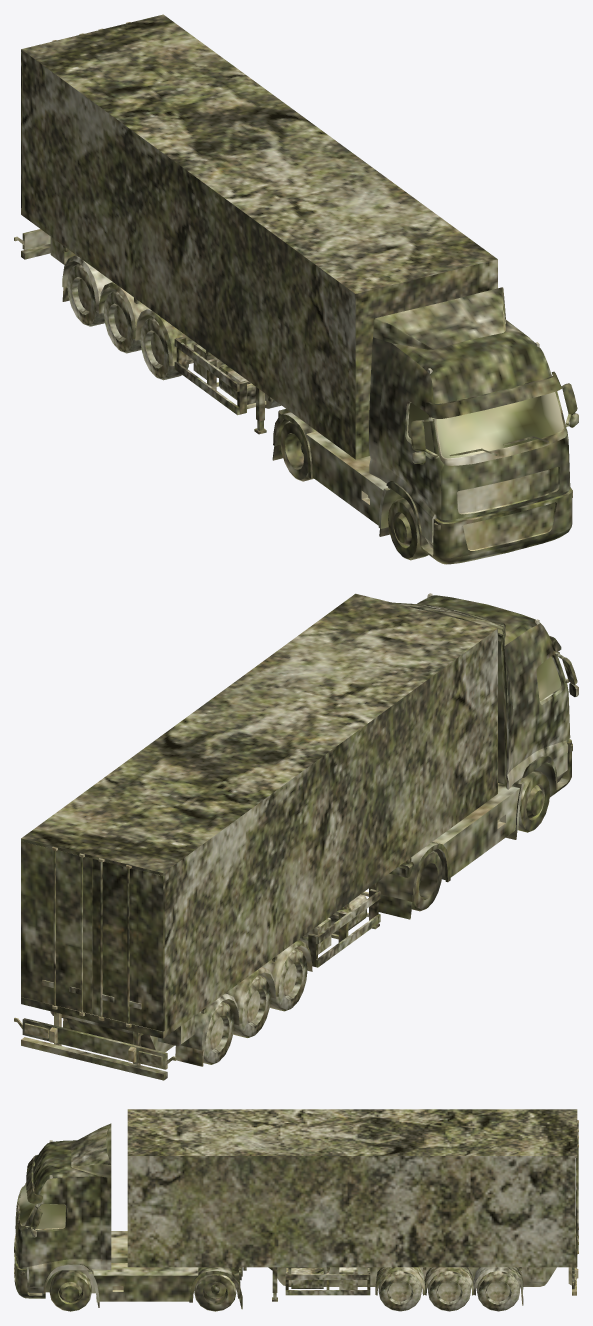
File: truck.fbx
The picture shows the model from 3 angles, top to bottom: view 1: azimuth 30°, elevation 25°; view 2: azimuth 150°, elevation 25°; view 3: azimuth 270°, elevation 25°; orthographic projection. The views are drawn at different scales.
Parts seen in each view (by area): view 1: contaner, turck, T_F, b_L_t, b_l_t, b_r_t1, T_L_R_B; view 2: contaner, turck, T_F, b_L_t, b_l_t, b_r_t1, T_L_R_B; view 3: contaner, turck, T_L, b_r_t, b_l_t1, bl_t, T_L_B.
Part boxes in pixels (x1=…): contaner: x1=14, y1=14, x2=497, y2=459; turck: x1=272, y1=287, x2=578, y2=564; T_F: x1=388, y1=498, x2=428, y2=560; b_L_t: x1=140, y1=317, x2=188, y2=380; b_l_t: x1=103, y1=290, x2=141, y2=353; b_r_t1: x1=67, y1=263, x2=104, y2=326; T_L_R_B: x1=280, y1=421, x2=313, y2=481; contaner: x1=14, y1=593, x2=497, y2=1080; turck: x1=378, y1=593, x2=578, y2=919; T_F: x1=518, y1=770, x2=550, y2=832; b_L_t: x1=270, y1=948, x2=307, y2=1011; b_l_t: x1=233, y1=975, x2=270, y2=1037; b_r_t1: x1=203, y1=1002, x2=234, y2=1064; T_L_R_B: x1=412, y1=851, x2=442, y2=911; contaner: x1=127, y1=1109, x2=578, y2=1305; turck: x1=14, y1=1123, x2=242, y2=1309; T_L: x1=49, y1=1270, x2=91, y2=1311; b_r_t: x1=378, y1=1271, x2=421, y2=1311; b_l_t1: x1=428, y1=1271, x2=470, y2=1311; bl_t: x1=477, y1=1271, x2=519, y2=1311; T_L_B: x1=194, y1=1274, x2=236, y2=1311.
Size of the model in its own units: 284 by 384 by 1247.
